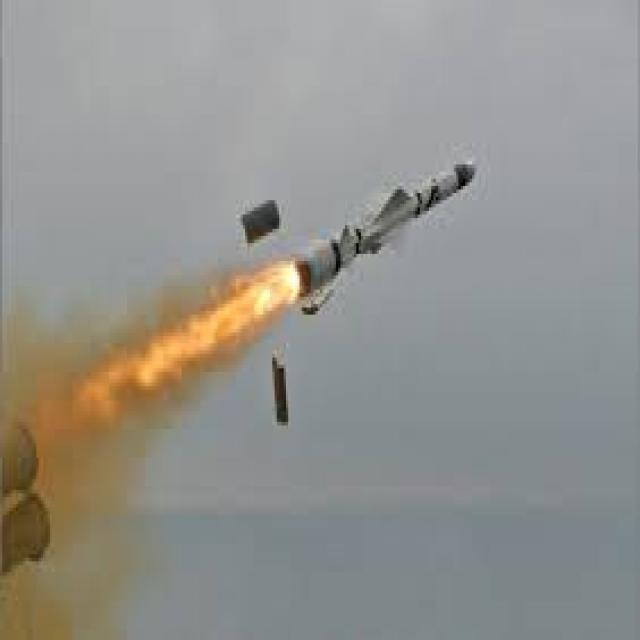Missile: (270, 144, 491, 318)
